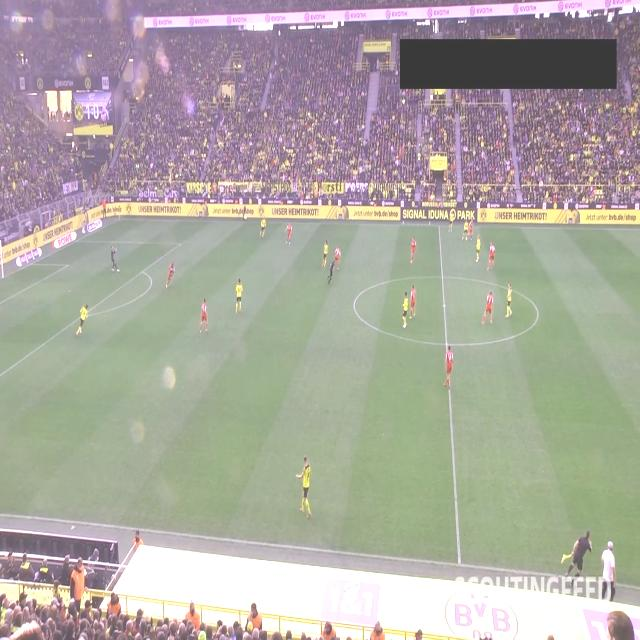ball: (465, 237, 468, 240)
f_player: (294, 454, 312, 520), (442, 344, 454, 390), (480, 288, 495, 324), (75, 302, 89, 338), (198, 297, 210, 334), (400, 289, 410, 331), (504, 280, 514, 320), (408, 282, 418, 320), (486, 240, 496, 272), (165, 261, 176, 289), (110, 245, 120, 273), (235, 277, 242, 315), (321, 240, 329, 270), (334, 245, 342, 272), (410, 236, 418, 263), (258, 216, 266, 240), (284, 222, 292, 246), (327, 260, 335, 284), (466, 218, 474, 242), (461, 218, 469, 242), (475, 234, 481, 264), (448, 210, 454, 233)
